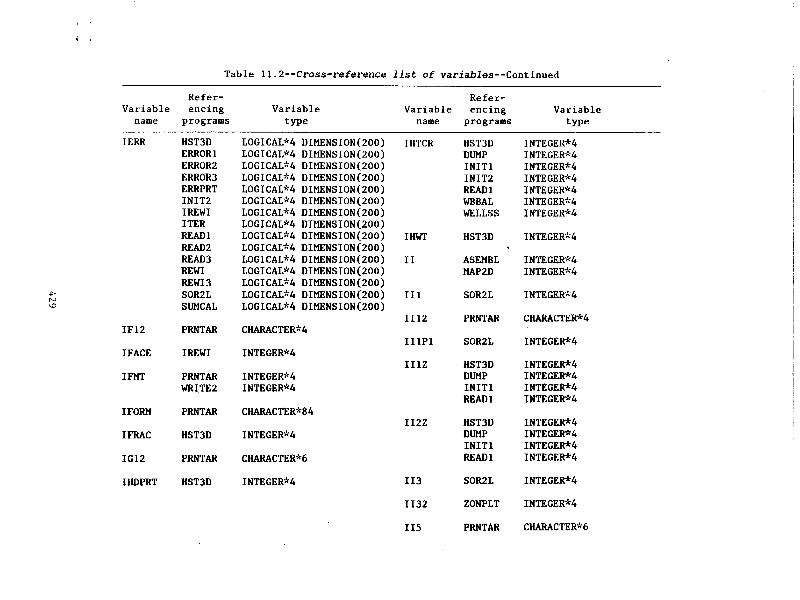table: (114, 85, 661, 588)
